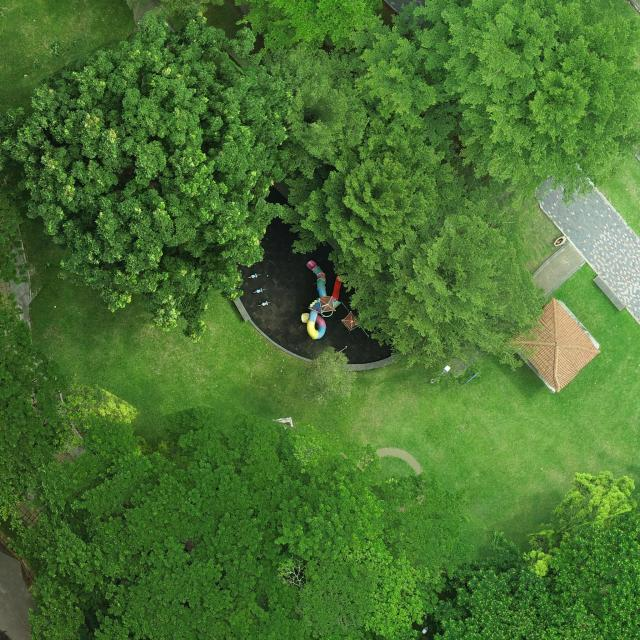Tree: (0, 11, 297, 343), (0, 406, 315, 640), (355, 0, 639, 209), (279, 422, 473, 640), (349, 184, 543, 381), (431, 470, 640, 640), (289, 128, 466, 280), (271, 45, 388, 186), (0, 292, 70, 503), (234, 0, 384, 49)
